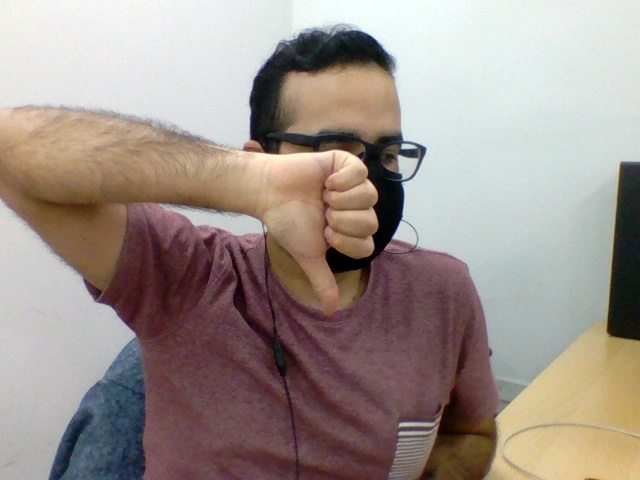ThumbsDown: (262, 148, 379, 317)
